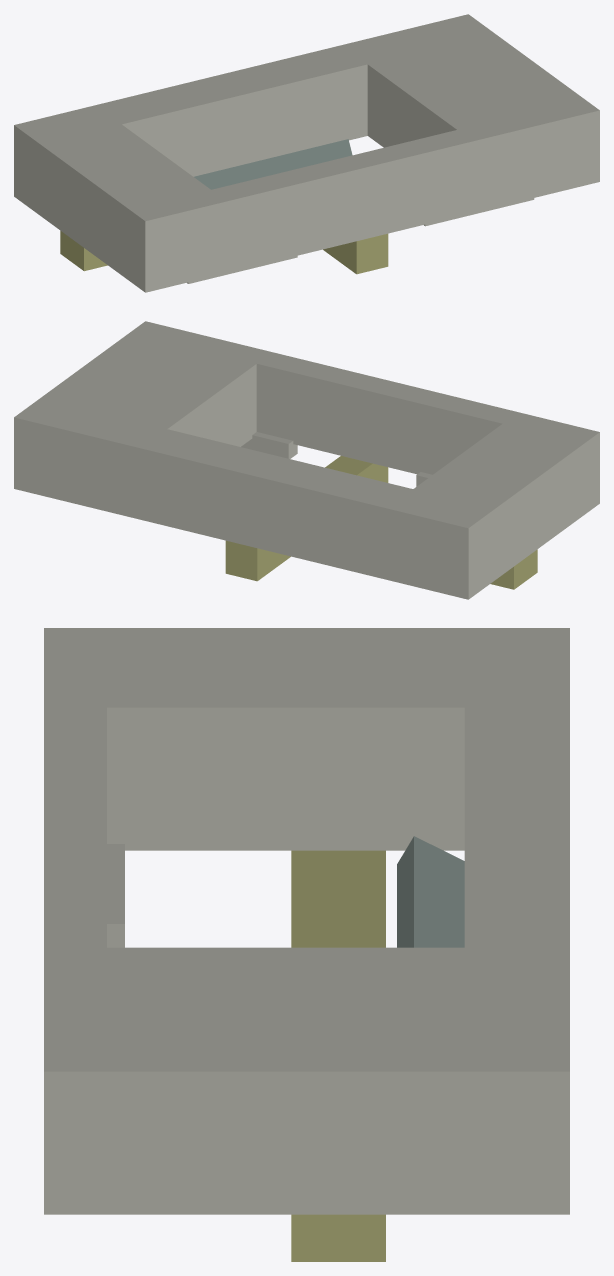
The model's file is SM_AndenLosa_Lateral_v2_LosaRota_LOD1.fbx.
3 views of the same model, one above another, from view 1: azimuth 30°, elevation 25°; view 2: azimuth 150°, elevation 25°; view 3: azimuth 270°, elevation 25° (orthographic). The views are drawn at different scales.
Parts seen in each view (by area): view 1: Losa; view 2: Losa; view 3: Losa.
Part boxes in pixels (box(x1,y1,x2,y2)): Losa: box(14, 14, 599, 292); Losa: box(14, 321, 599, 599); Losa: box(44, 628, 569, 1261).
Size of what is drawn, in the model's own units: 9.98 by 2.2 by 5.
